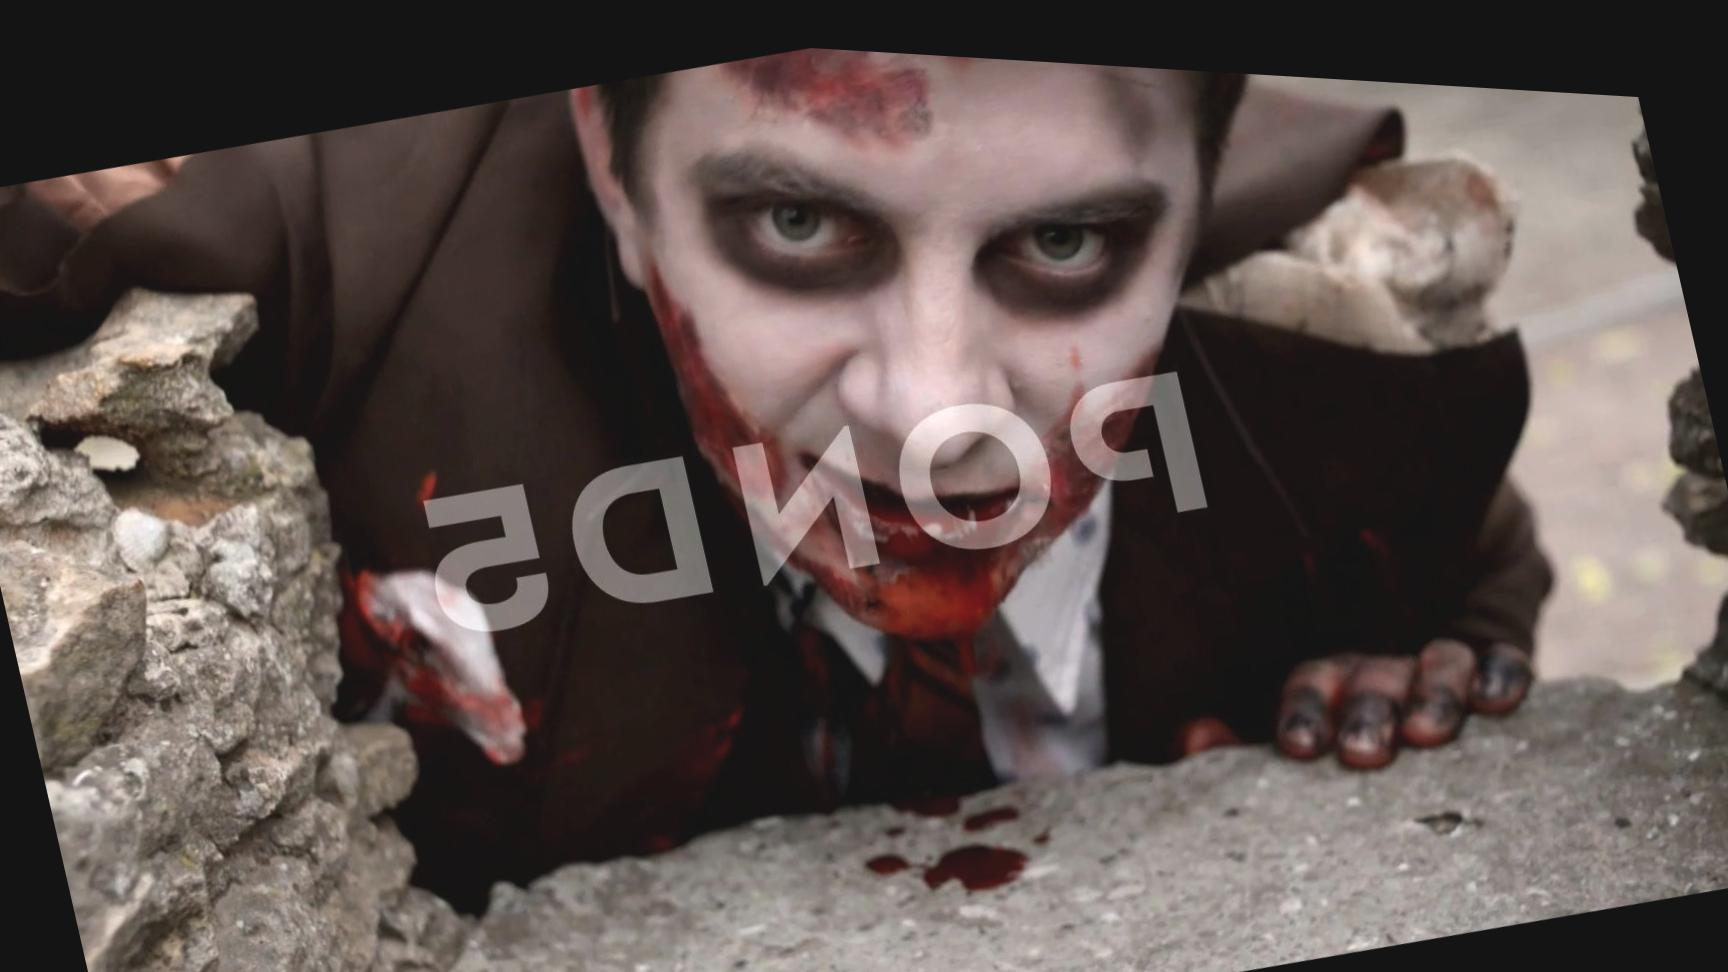Fire: (787, 374, 1108, 630), (646, 248, 786, 494), (723, 38, 928, 127), (1104, 390, 1146, 436)
